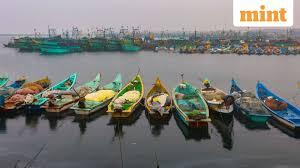fishing boat: (23, 56, 77, 116), (254, 79, 300, 132), (169, 73, 211, 129), (230, 76, 274, 128), (70, 64, 110, 119), (104, 66, 142, 120), (143, 71, 173, 122), (199, 75, 236, 114), (37, 24, 83, 55)
